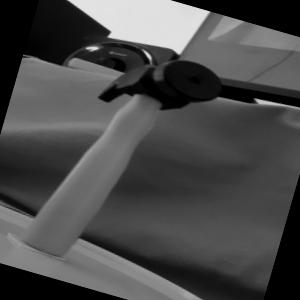martelo: (15, 28, 227, 288)
